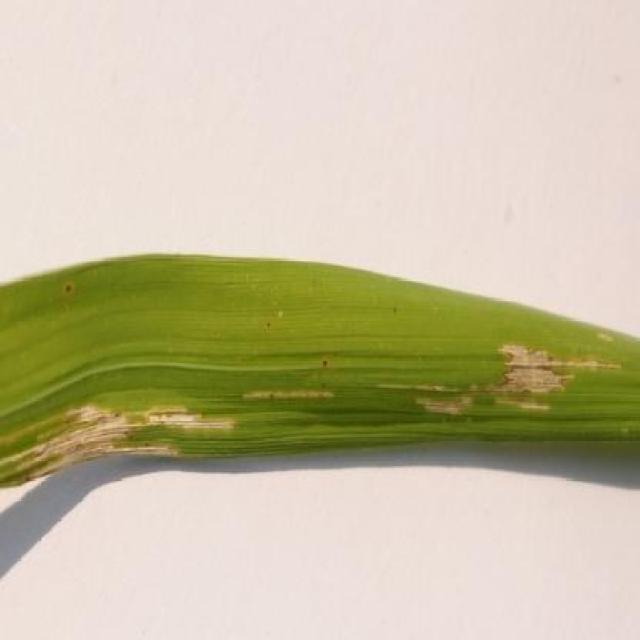Brown_Spot: (403, 322, 634, 458), (0, 384, 242, 482)
